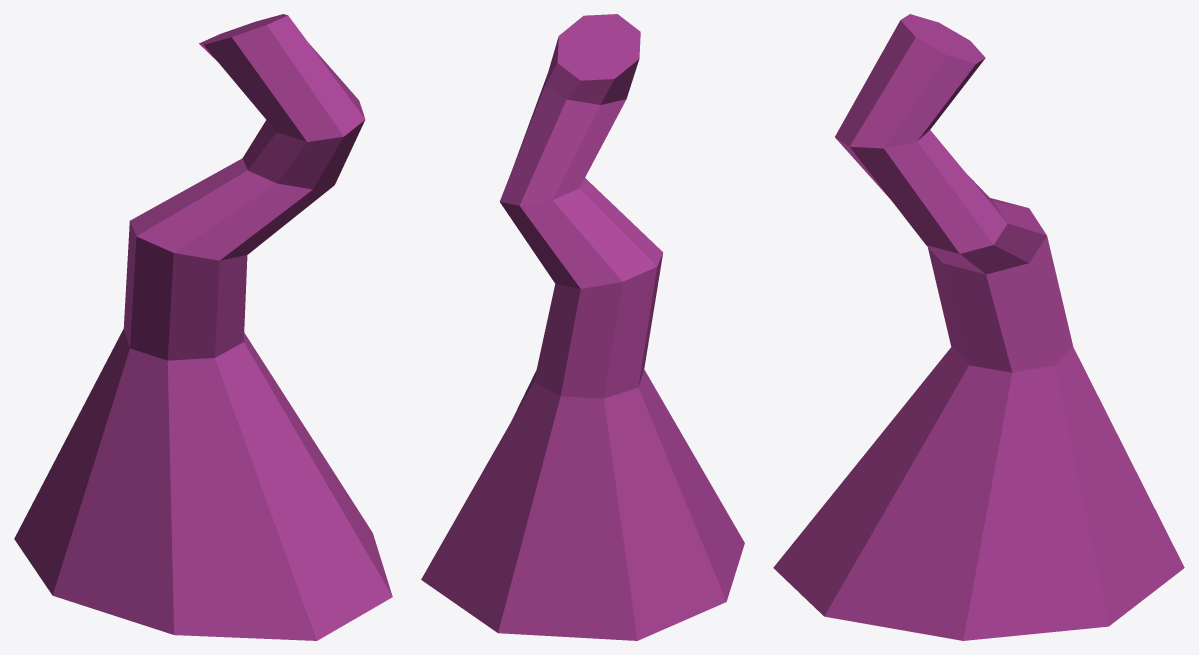
File: SM_Env_Tree_Marsh_03_Collision.fbx
3 views of the same model, side by side, from view 1: azimuth 30°, elevation 25°; view 2: azimuth 150°, elevation 25°; view 3: azimuth 270°, elevation 25° (orthographic). The views are drawn at different scales.
Visible parts, largest first — view 1: SM_Env_Tree_Marsh_03_Collision; view 2: SM_Env_Tree_Marsh_03_Collision; view 3: SM_Env_Tree_Marsh_03_Collision.
Part boxes in pixels (x1=…): SM_Env_Tree_Marsh_03_Collision: x1=14, y1=14, x2=392, y2=640; SM_Env_Tree_Marsh_03_Collision: x1=421, y1=14, x2=744, y2=640; SM_Env_Tree_Marsh_03_Collision: x1=773, y1=14, x2=1184, y2=640.
Size of the model in its own units: 256 by 455 by 306.
